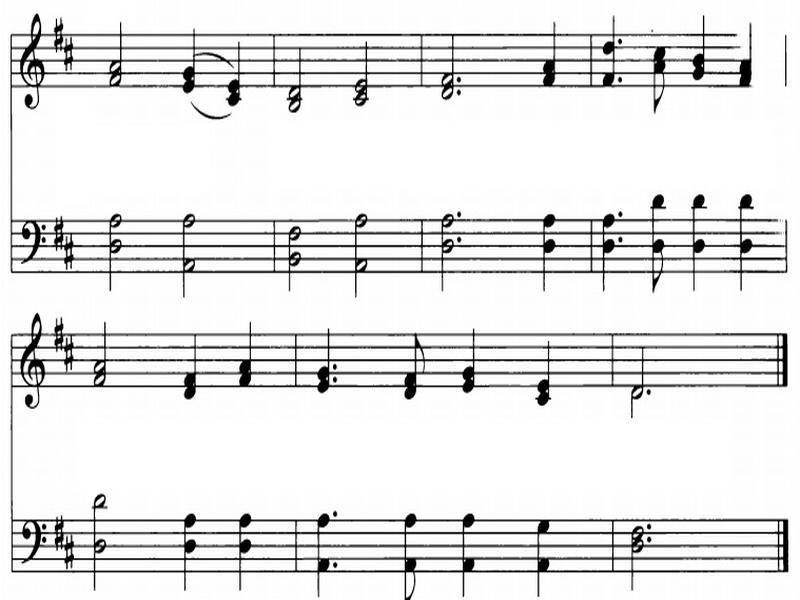B: (170, 202, 202, 302), (340, 32, 382, 107), (347, 199, 377, 303), (280, 35, 314, 121), (98, 14, 132, 94), (90, 490, 117, 589), (100, 205, 127, 300), (87, 322, 121, 396), (428, 211, 454, 293), (284, 219, 307, 292), (625, 521, 647, 589), (623, 341, 648, 398), (625, 386, 648, 420)
C: (397, 327, 432, 402), (643, 41, 674, 119), (647, 238, 676, 290), (395, 557, 424, 600)
CF: (17, 210, 47, 278), (14, 515, 48, 571)
CS: (14, 305, 51, 417), (17, 8, 48, 122)
N: (524, 509, 571, 600), (526, 209, 571, 303), (732, 184, 767, 302), (171, 510, 209, 600), (225, 510, 265, 594), (176, 323, 209, 415), (681, 187, 707, 295), (449, 512, 479, 600), (533, 328, 562, 412), (729, 11, 757, 95), (229, 320, 259, 394), (225, 39, 257, 108), (687, 1, 713, 85), (178, 22, 206, 94), (464, 326, 489, 397), (596, 9, 617, 91), (315, 323, 337, 394), (309, 514, 327, 600), (543, 19, 564, 91), (637, 191, 661, 233), (401, 512, 422, 554)
P: (329, 508, 344, 524), (454, 89, 470, 101), (643, 387, 655, 401), (616, 207, 626, 223), (332, 375, 344, 388), (454, 209, 465, 222), (615, 37, 627, 48), (455, 235, 467, 246), (616, 235, 626, 248), (641, 521, 653, 530), (644, 535, 656, 544), (331, 364, 342, 373), (333, 558, 340, 572), (617, 77, 625, 86), (457, 74, 464, 83)
SOS: (61, 336, 79, 384), (62, 237, 82, 278), (48, 514, 65, 551), (47, 211, 64, 246), (50, 14, 65, 52), (49, 318, 64, 351), (62, 39, 75, 72), (65, 535, 77, 566)
